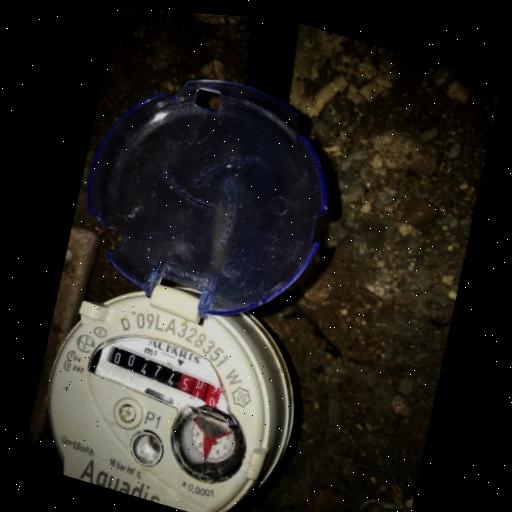0: (202, 383, 223, 409), (189, 377, 210, 401), (121, 351, 140, 373), (109, 346, 126, 367)
4: (159, 366, 182, 390), (134, 355, 154, 378)
5: (177, 372, 196, 395)
7: (147, 361, 166, 384)
border_water_meter_number: (100, 342, 229, 412)
